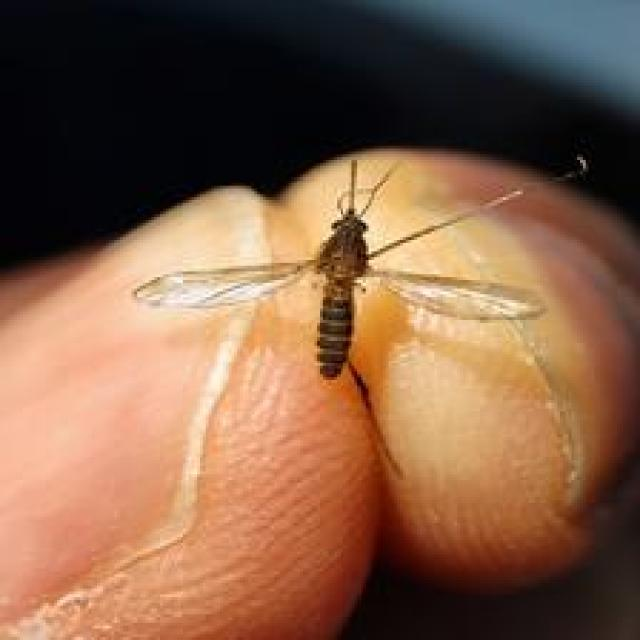Culex: (132, 154, 552, 383)
